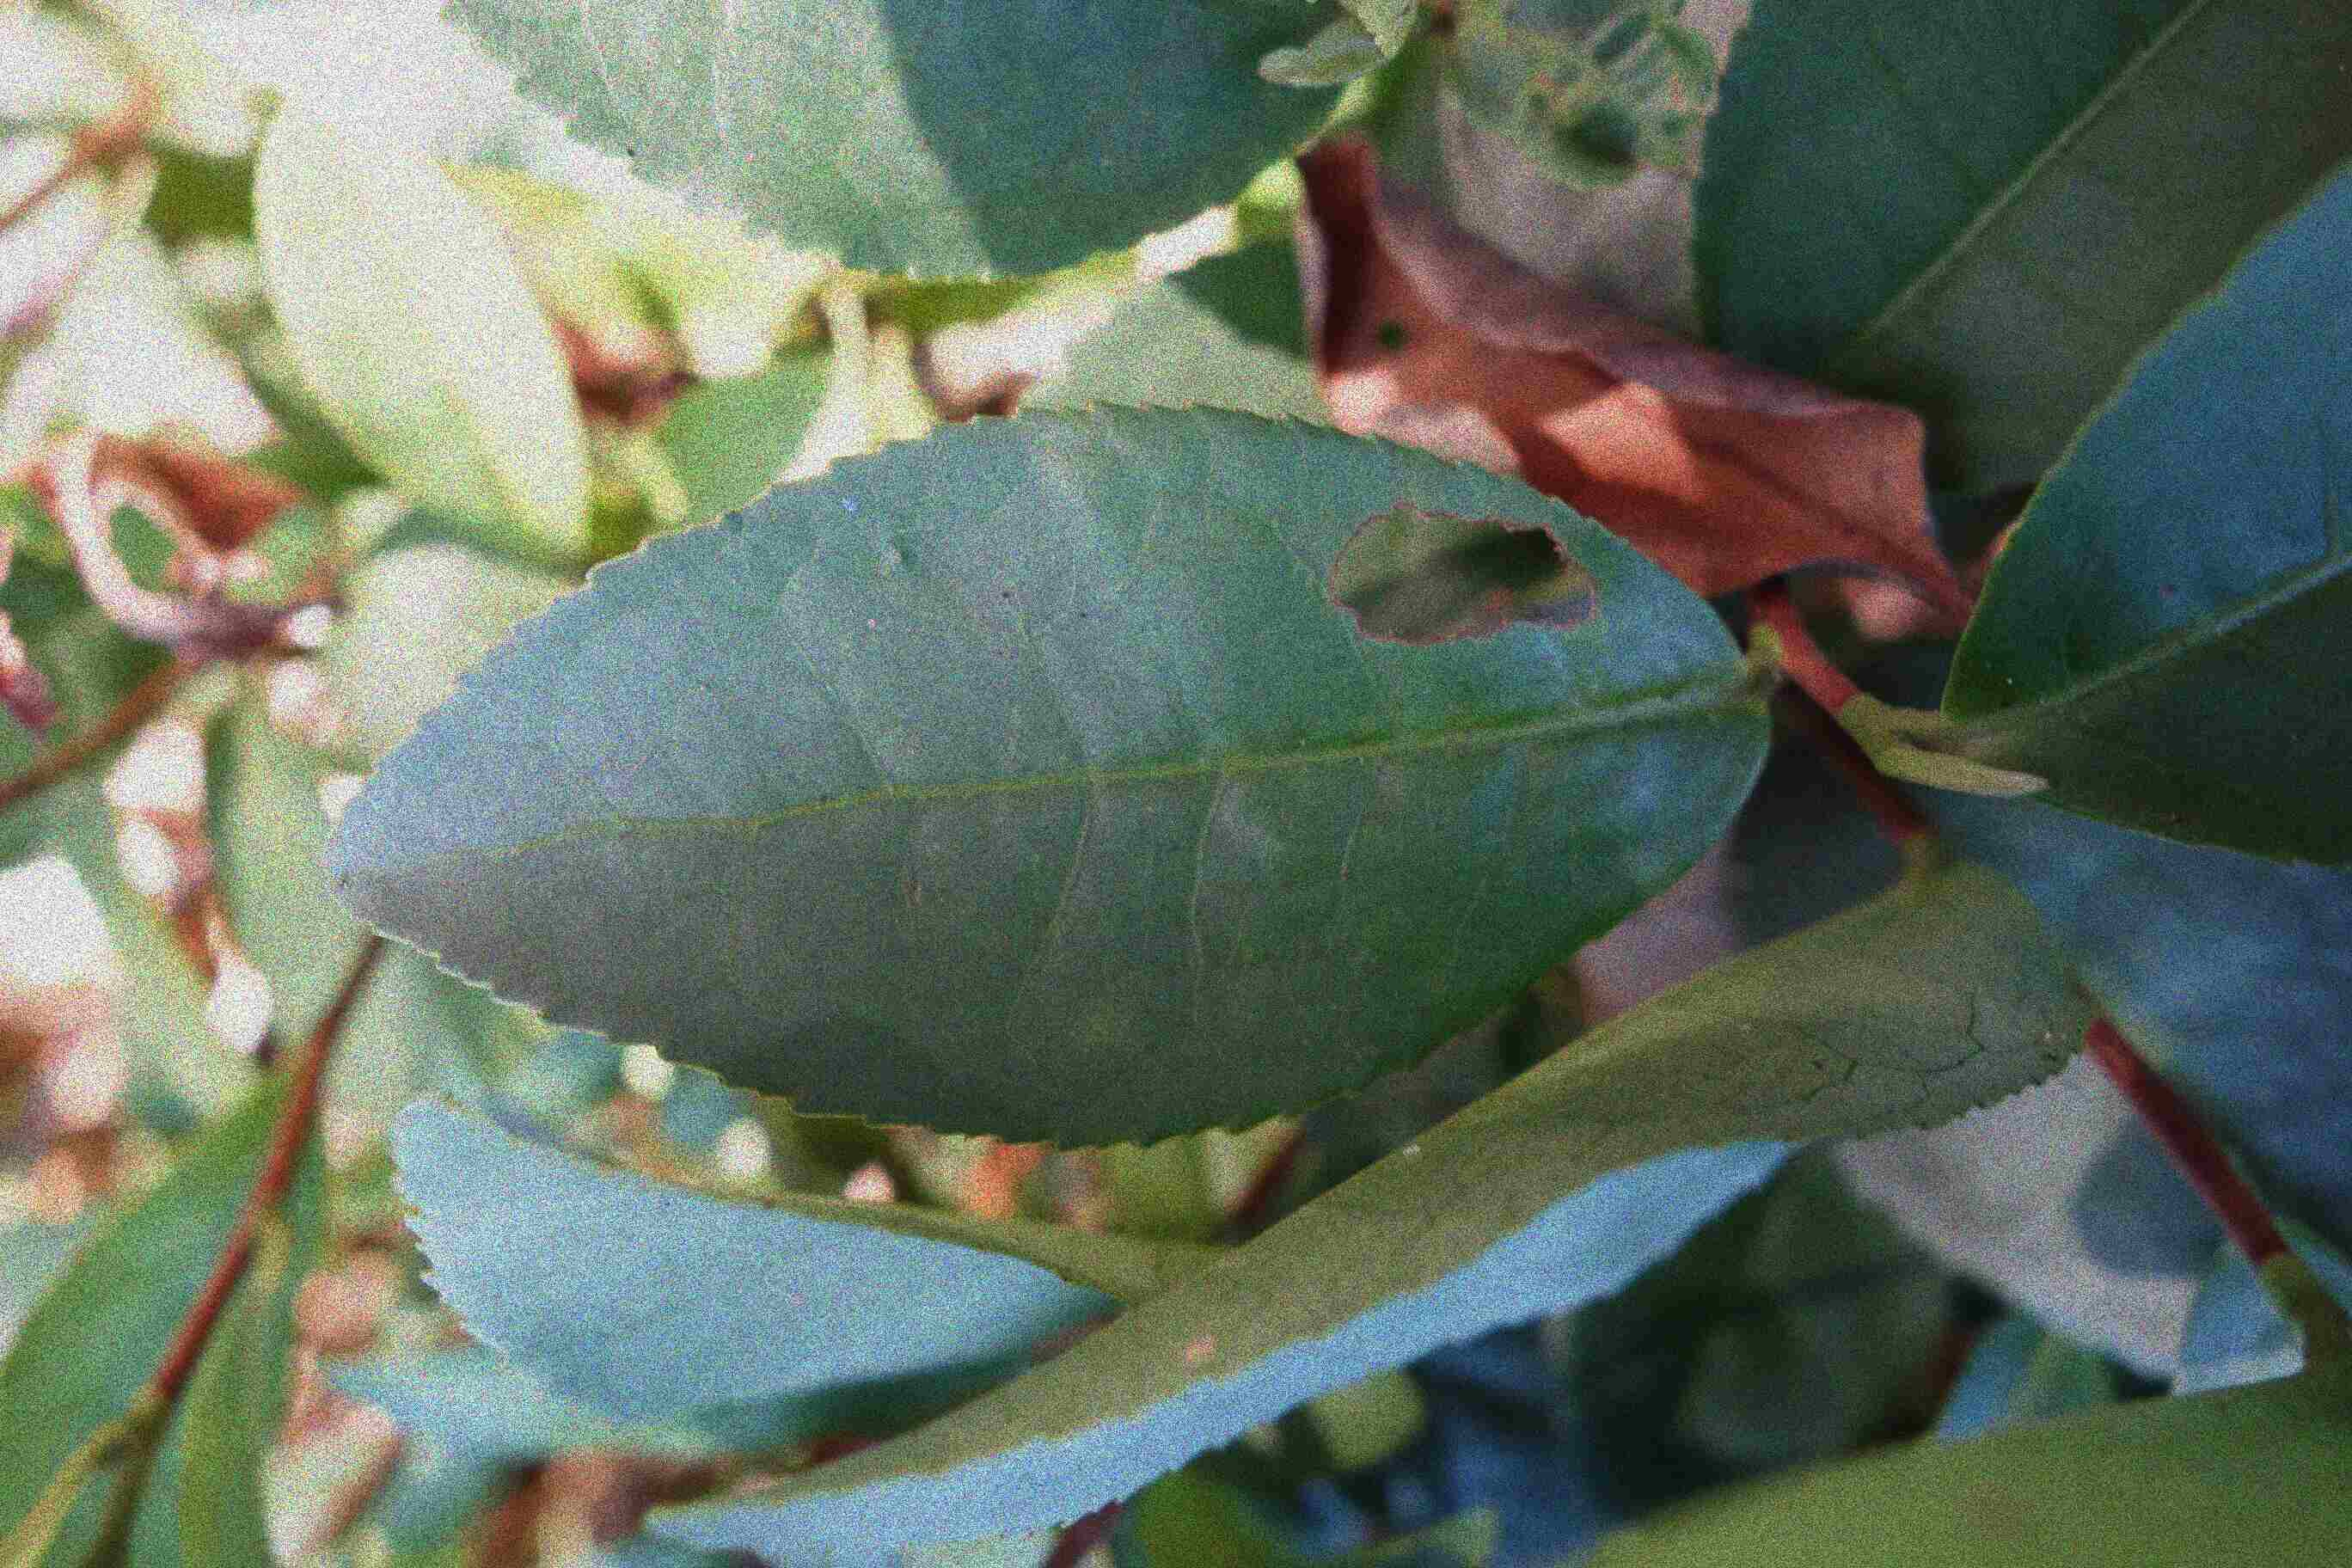chihuo_low: (324, 399, 1774, 1155)
